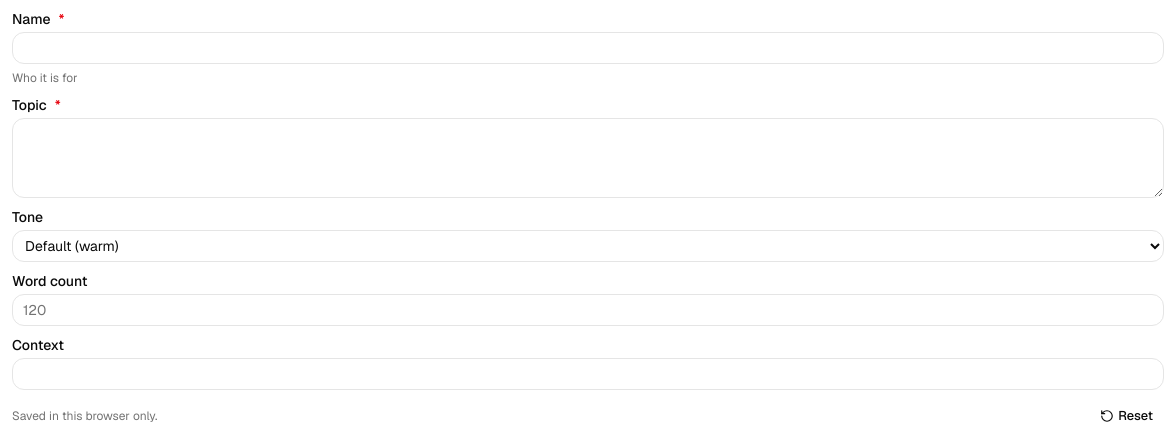
Scenario: VariableForm › Reset clears the fields and the stored entry
Type "Sam" into the field labelled "Name *" at (588, 48), box [12,32,1164,64]
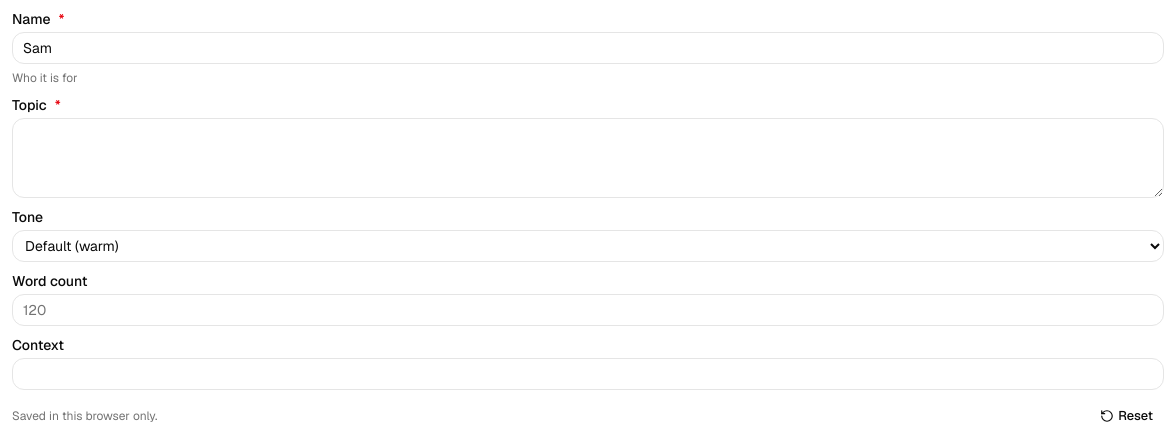
Click the button "Reset" at (1127, 416), box [1089,402,1164,430]
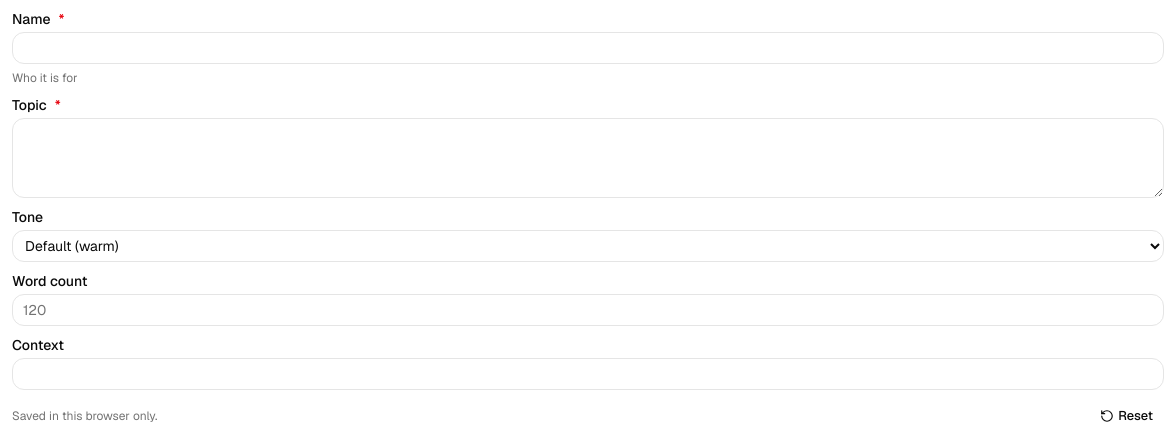
Result: the field labelled "Name *" is empty at [12,32,1164,64]
